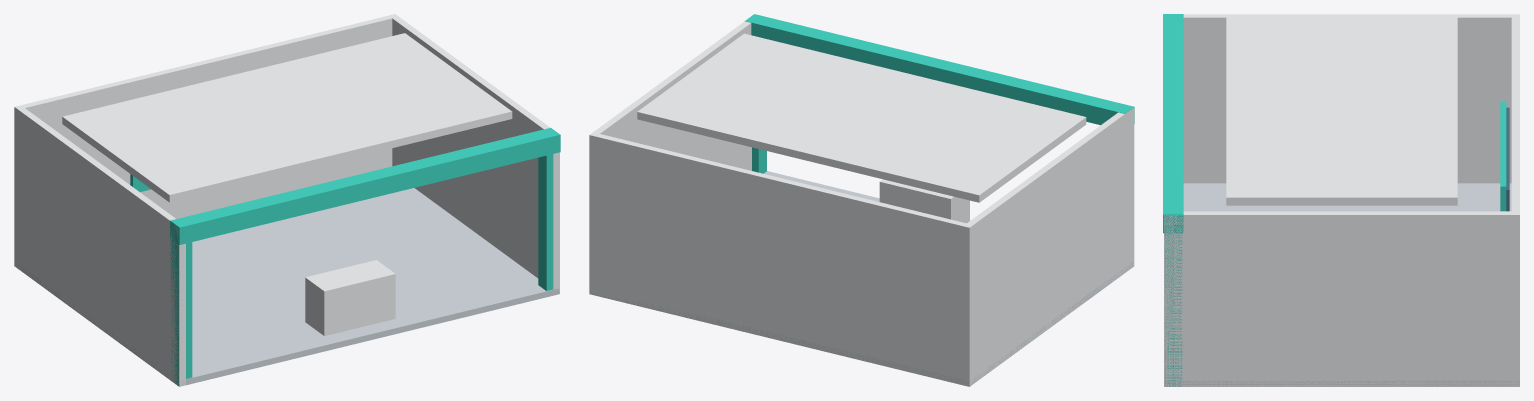
3 renders of one model, left to right at view 1: azimuth 30°, elevation 25°; view 2: azimuth 150°, elevation 25°; view 3: azimuth 270°, elevation 25°, orthographic. The views are drawn at different scales.
Visible parts, largest first — view 1: Exhibition Booth Concept; view 2: Exhibition Booth Concept; view 3: Exhibition Booth Concept.
Part boxes in pixels (bbox=[...]): Exhibition Booth Concept: bbox=[14, 14, 560, 386]; Exhibition Booth Concept: bbox=[589, 14, 1134, 386]; Exhibition Booth Concept: bbox=[1163, 14, 1519, 386].
Bounding box in the file's own units: 8 × 3.34 × 6.02.
